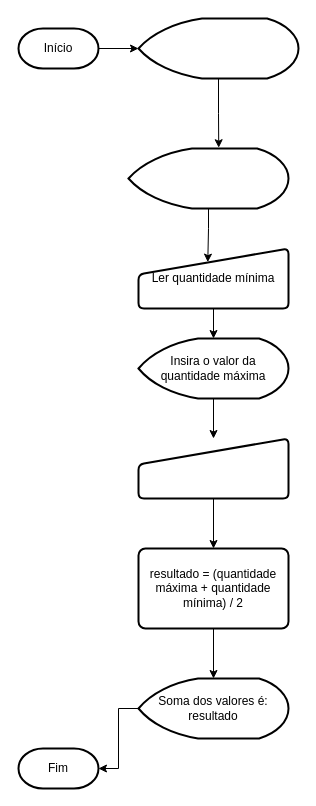
The diagram is 316 pixels wide and 806 high, and some of its shapes have lost their labels. The shapes that lost their labels are listed below. From the top down, each one's box as (x1, y1, x2, y2) in pixels, then its label:
(137, 17, 299, 79): CALCULAR ESTOQUE MÉDIO DE UMA PEÇA
(127, 147, 289, 209): Insira o valor da quantidade mínima
(137, 437, 289, 499): Ler quantidade máxima
